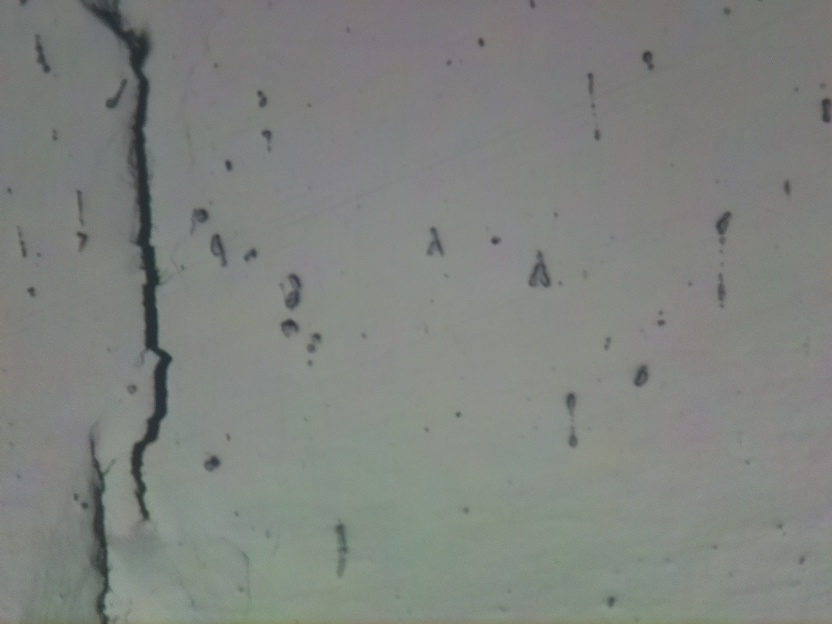crack: (80, 0, 174, 517), (83, 428, 119, 624)
